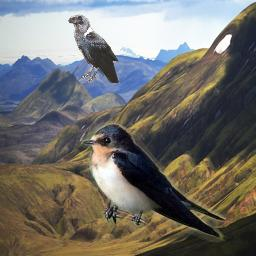Crow: (67, 14, 120, 83)
Swallow: (81, 121, 226, 243)
